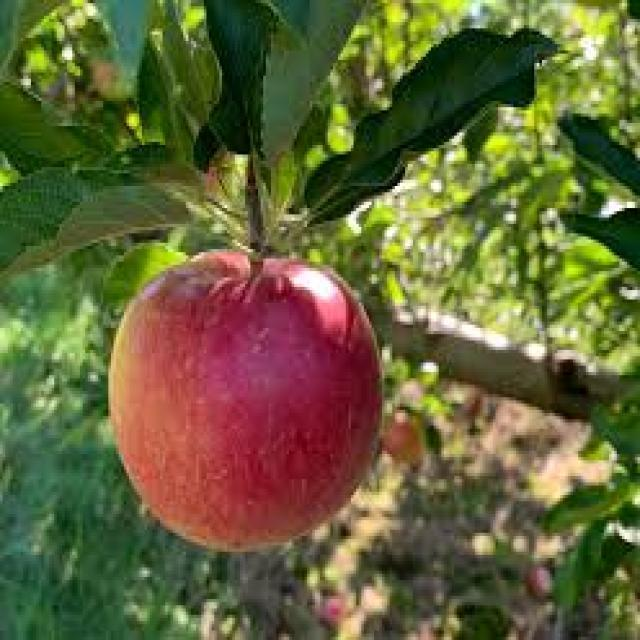Apple: (106, 246, 382, 552)
